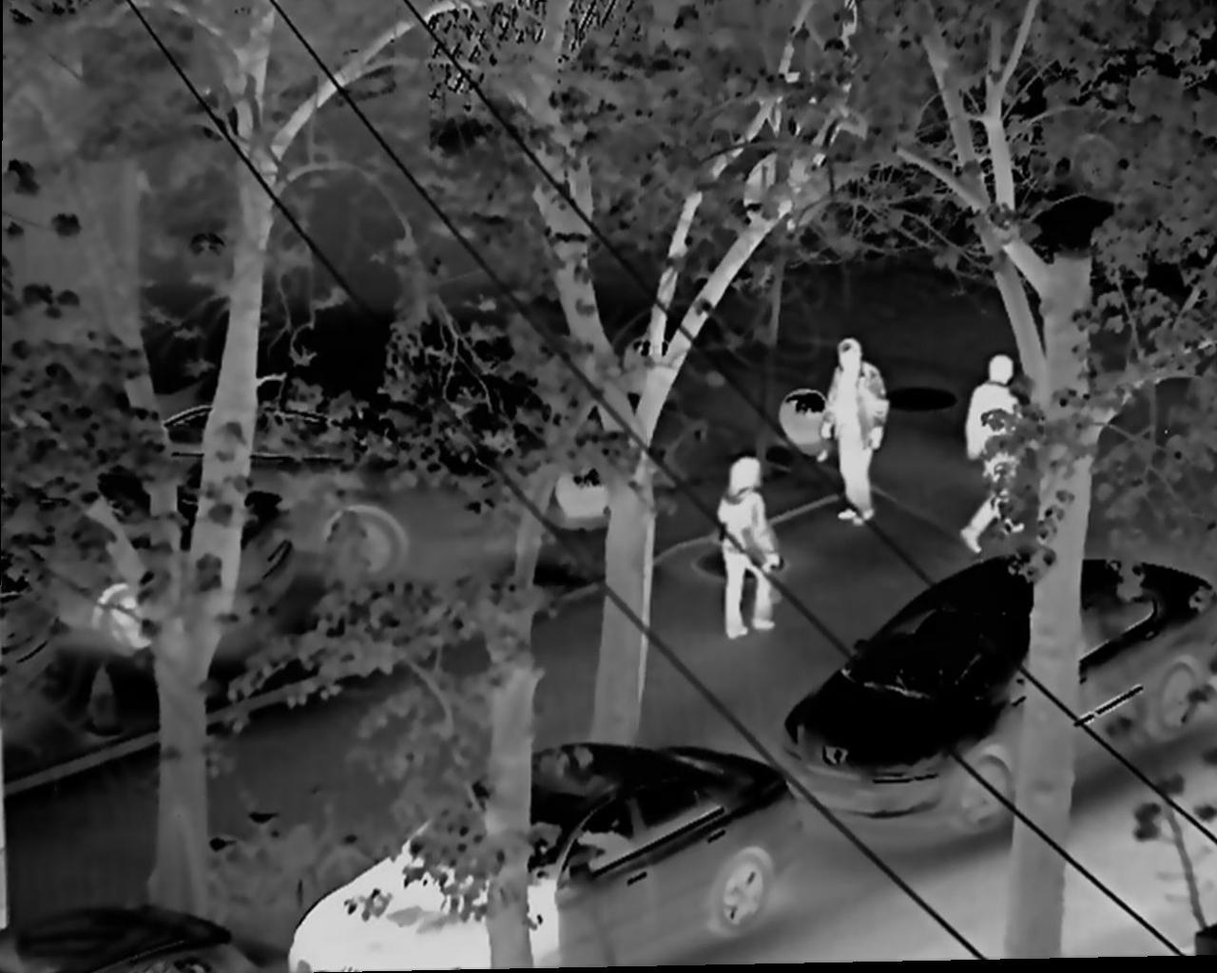person: (712, 446, 796, 641), (956, 352, 1031, 558), (821, 331, 889, 527)
